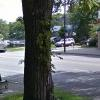Tree: (66, 3, 100, 51)
